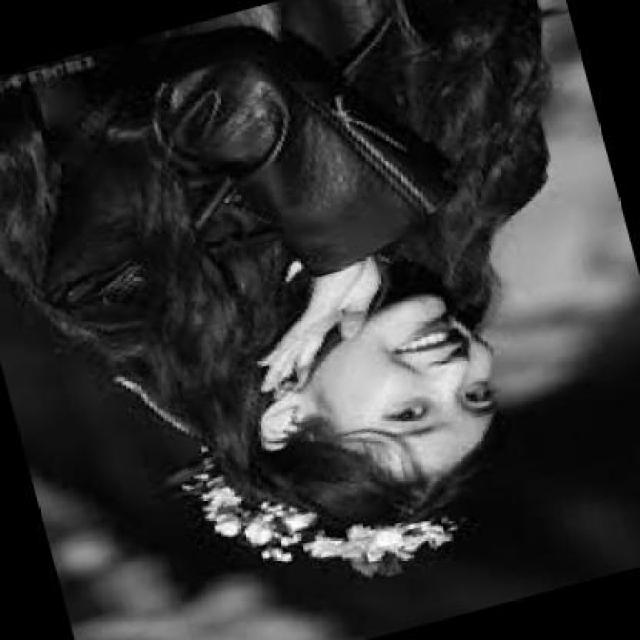earphone: (253, 394, 310, 447)
